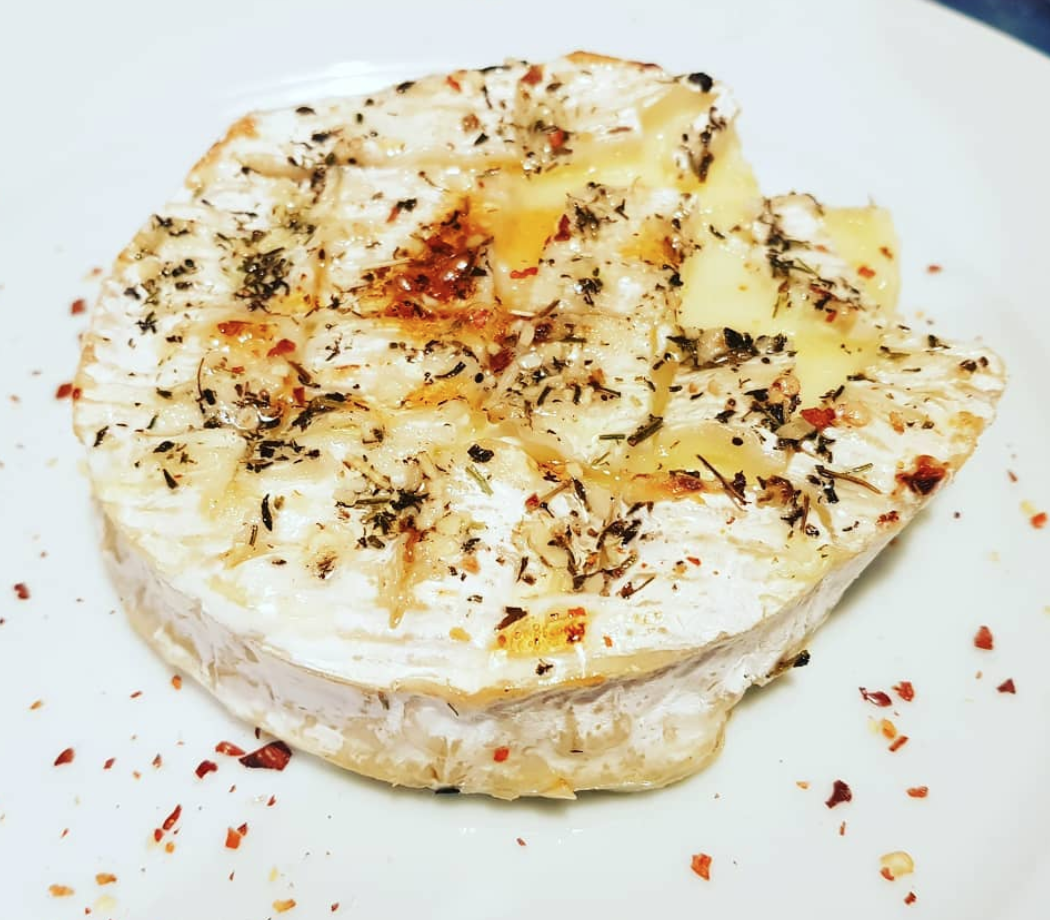camembert: (67, 50, 1008, 813)
